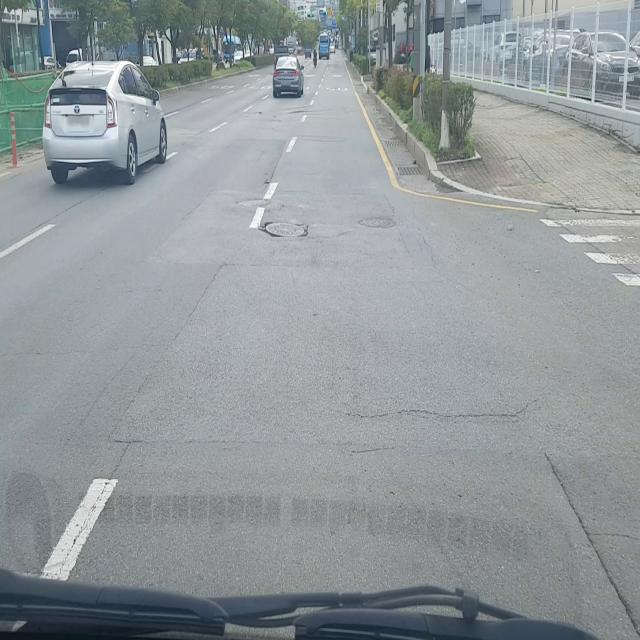Pothole: (258, 220, 308, 240)
